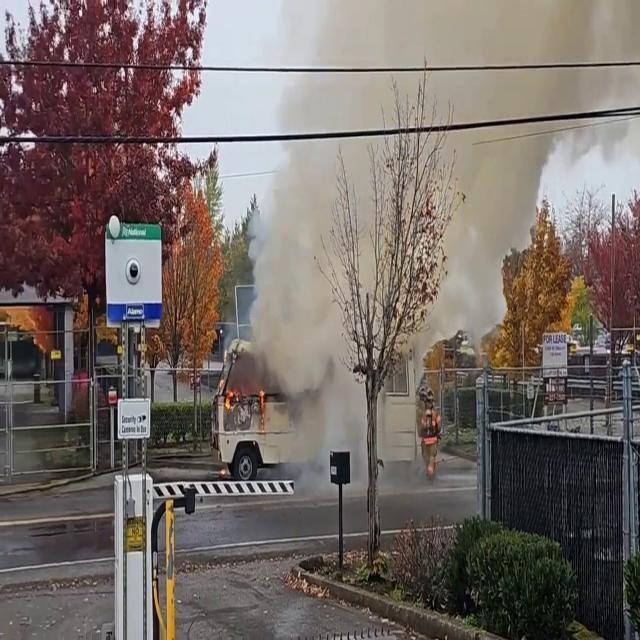Fire: (220, 382, 238, 414)
Smoke: (232, 0, 506, 424), (532, 0, 640, 230)
